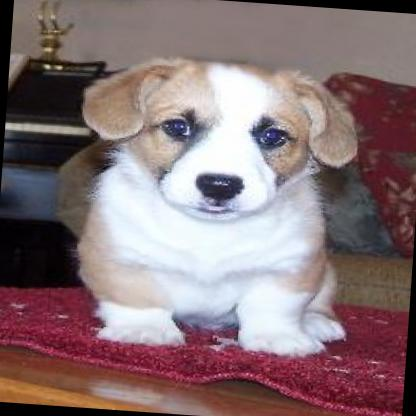Cardigan: (58, 45, 363, 358)
